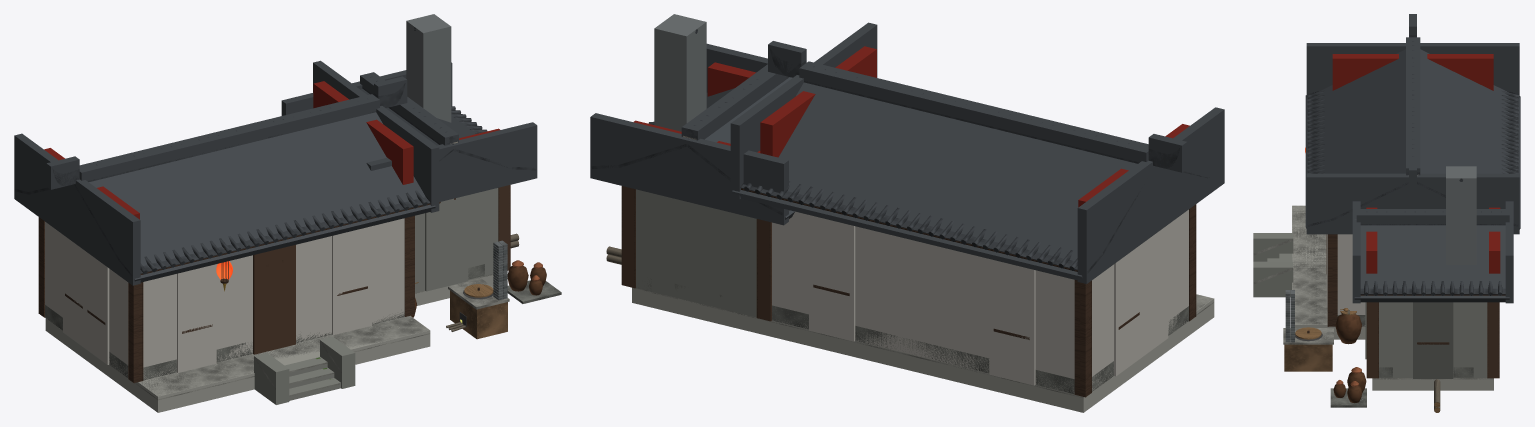
File: kit_l_kitchen_grey.gltf
3 views of the same model, side by side, from view 1: azimuth 30°, elevation 25°; view 2: azimuth 150°, elevation 25°; view 3: azimuth 270°, elevation 25° (orthographic). The views are drawn at different scales.
Visible parts, largest first — view 1: Far, Near, Detail; view 2: Far, Near; view 3: Far, Near, Detail.
Part boxes in pixels (left/top/right/bottom): Far: left=14, top=14, right=537, bottom=412; Near: left=15, top=27, right=535, bottom=400; Detail: left=216, top=233, right=561, bottom=339; Far: left=590, top=14, right=1224, bottom=412; Near: left=591, top=29, right=1214, bottom=398; Far: left=1253, top=14, right=1520, bottom=390; Near: left=1253, top=35, right=1518, bottom=379; Detail: left=1283, top=147, right=1440, bottom=412.
Size of the model in its own units: 12.44 by 5.73 by 6.64.
27 materials, 26 textured.
